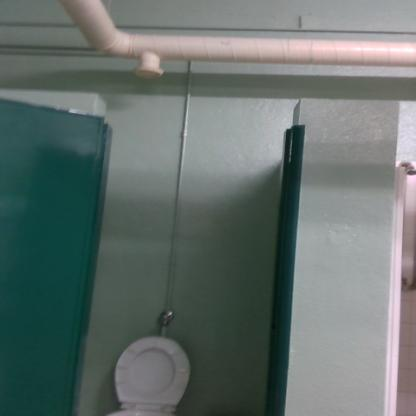open: (9, 58, 346, 416)
